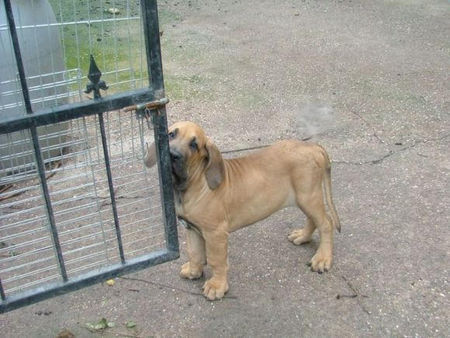fila_brasileiro: (142, 119, 342, 301)
